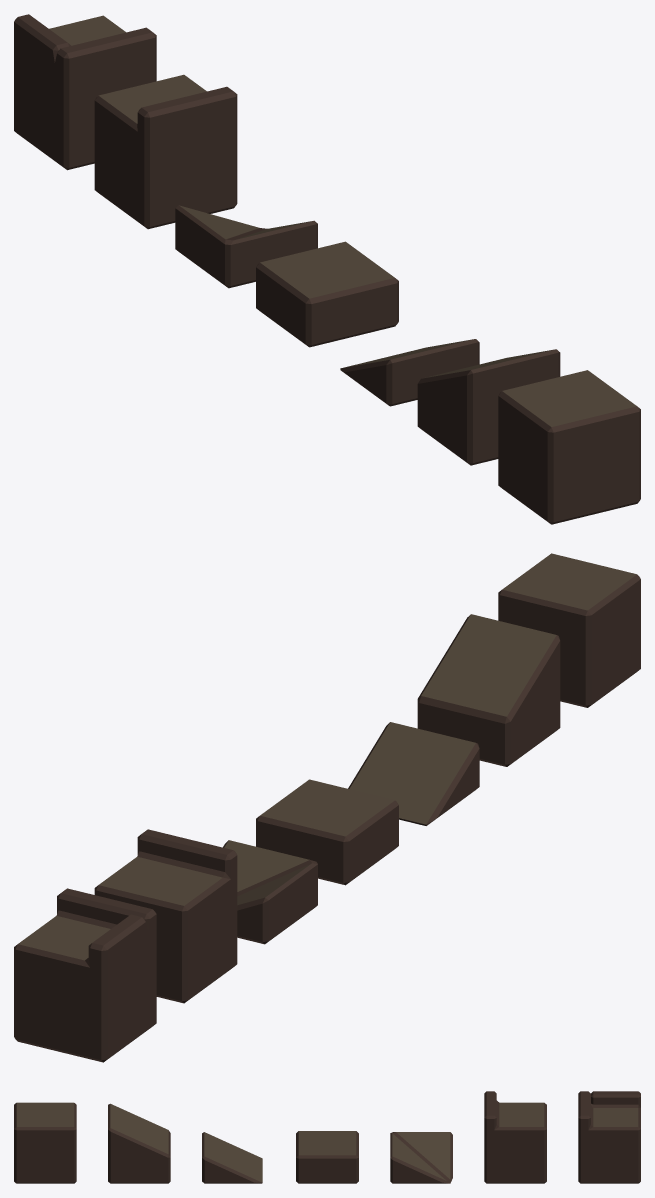
The model's file is jumb-blocks-v1.glb.
3 views of the same model, one above another, from view 1: azimuth 30°, elevation 25°; view 2: azimuth 150°, elevation 25°; view 3: azimuth 270°, elevation 25° (orthographic). The views are drawn at different scales.
Parts seen in each view (by area): view 1: BlockWall, Block, BlockWallCorner, BlockShort, RampTop, RampLowerCorner, RampBottom; view 2: BlockWallCorner, RampTop, BlockWall, Block, BlockShort, RampBottom, RampLowerCorner; view 3: BlockWallCorner, BlockWall, Block, RampTop, BlockShort, RampLowerCorner, RampBottom.
Boxes of the visible parts, x1,y1,x2,y2 form: BlockWall: [94, 74, 237, 229]; Block: [498, 370, 640, 524]; BlockWallCorner: [14, 14, 156, 170]; BlockShort: [256, 241, 398, 347]; RampTop: [417, 349, 560, 465]; RampLowerCorner: [175, 205, 317, 288]; RampBottom: [340, 339, 479, 406]; BlockWallCorner: [14, 888, 156, 1062]; RampTop: [417, 614, 560, 766]; BlockWall: [94, 829, 237, 1003]; Block: [498, 553, 640, 707]; BlockShort: [256, 779, 398, 885]; RampBottom: [348, 722, 479, 825]; RampLowerCorner: [223, 840, 317, 944]; BlockWallCorner: [578, 1091, 640, 1183]; BlockWall: [484, 1091, 546, 1183]; Block: [14, 1102, 76, 1183]; RampTop: [108, 1103, 170, 1183]; BlockShort: [296, 1131, 358, 1183]; RampLowerCorner: [390, 1132, 452, 1183]; RampBottom: [202, 1132, 262, 1183].
Size of what is drawn, in the model's own units: 2 by 2.4 by 20.
